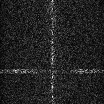wifi: (1, 68, 104, 73)
